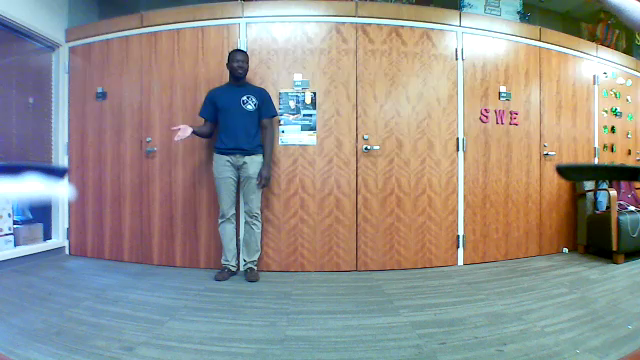land: (167, 122, 200, 144)
